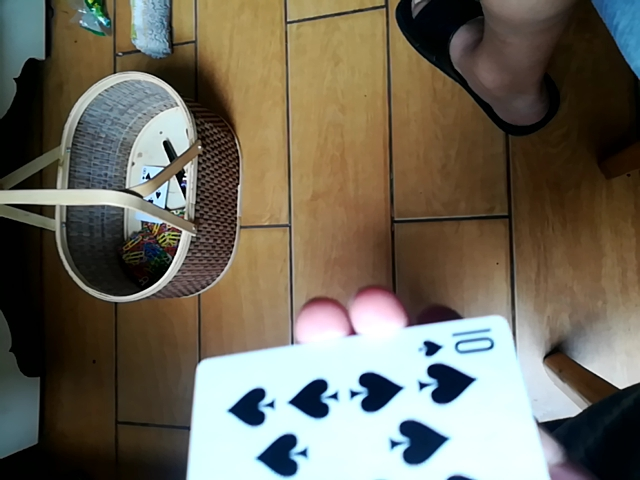ht 10: (179, 312, 563, 478)
